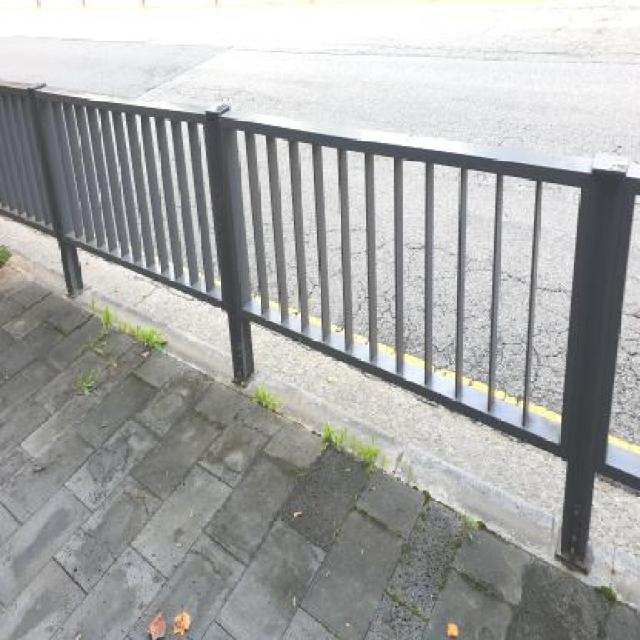fence: (1, 19, 640, 577)
